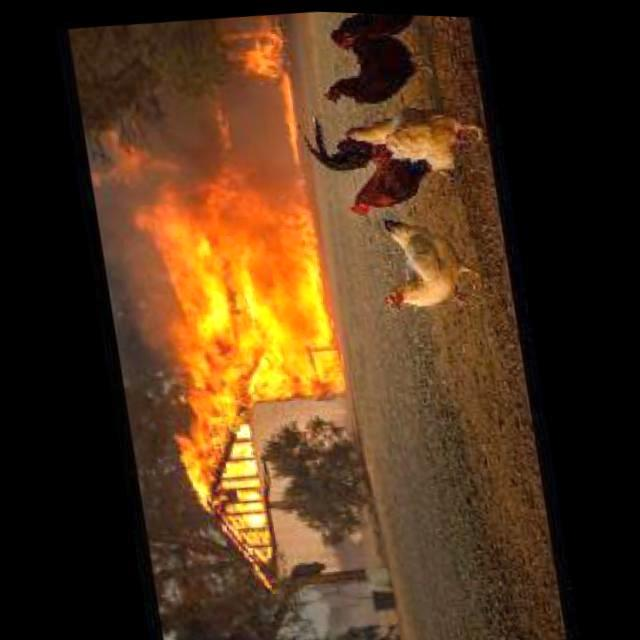fire: (100, 160, 372, 616), (218, 10, 306, 172)
